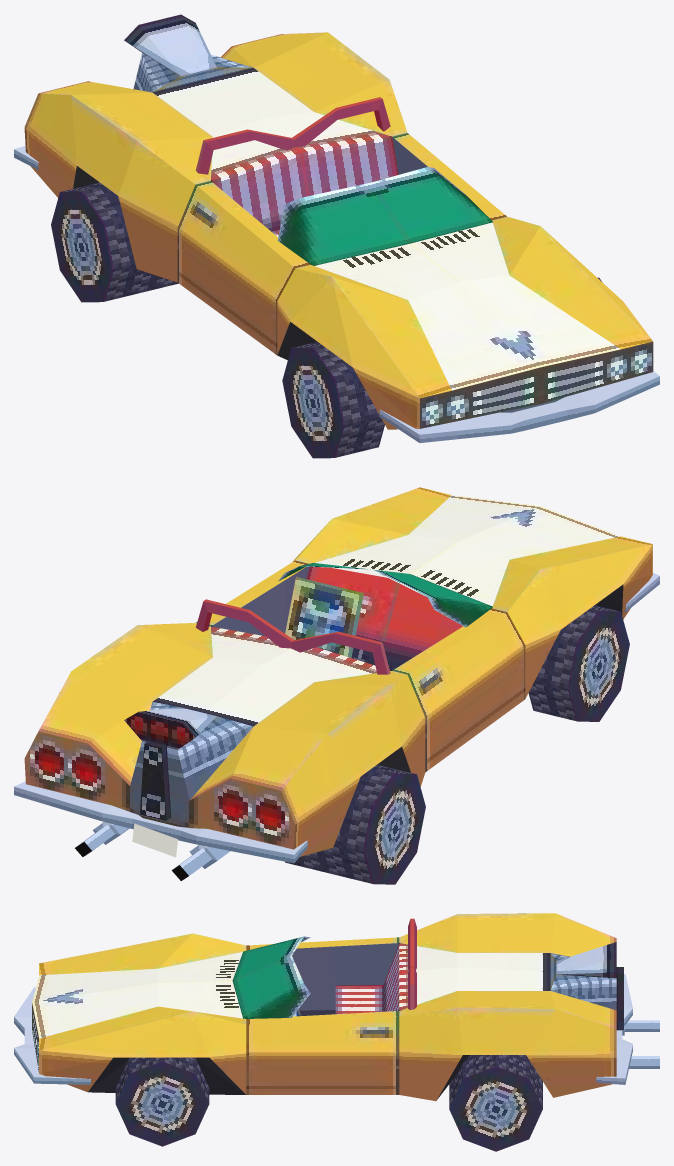
File: sportscar.glb
3 renders of one model, top to bottom at view 1: azimuth 30°, elevation 25°; view 2: azimuth 150°, elevation 25°; view 3: azimuth 270°, elevation 25°, orthographic. The views are drawn at different scales.
Parts seen in each view (by area): view 1: Cube.010; view 2: Cube.010; view 3: Cube.010.
Boxes of the visible parts, x1,y1,x2,y2 form: Cube.010: (14, 14, 659, 458); Cube.010: (14, 487, 659, 884); Cube.010: (14, 913, 659, 1151).
Bounding box in the file's own units: 1.82 × 1.03 × 4.22.
1 material, 1 textured.
